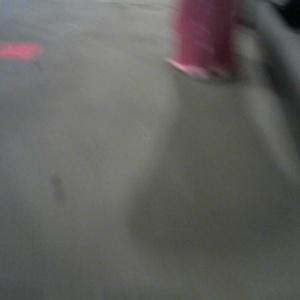right: (166, 1, 243, 79)
